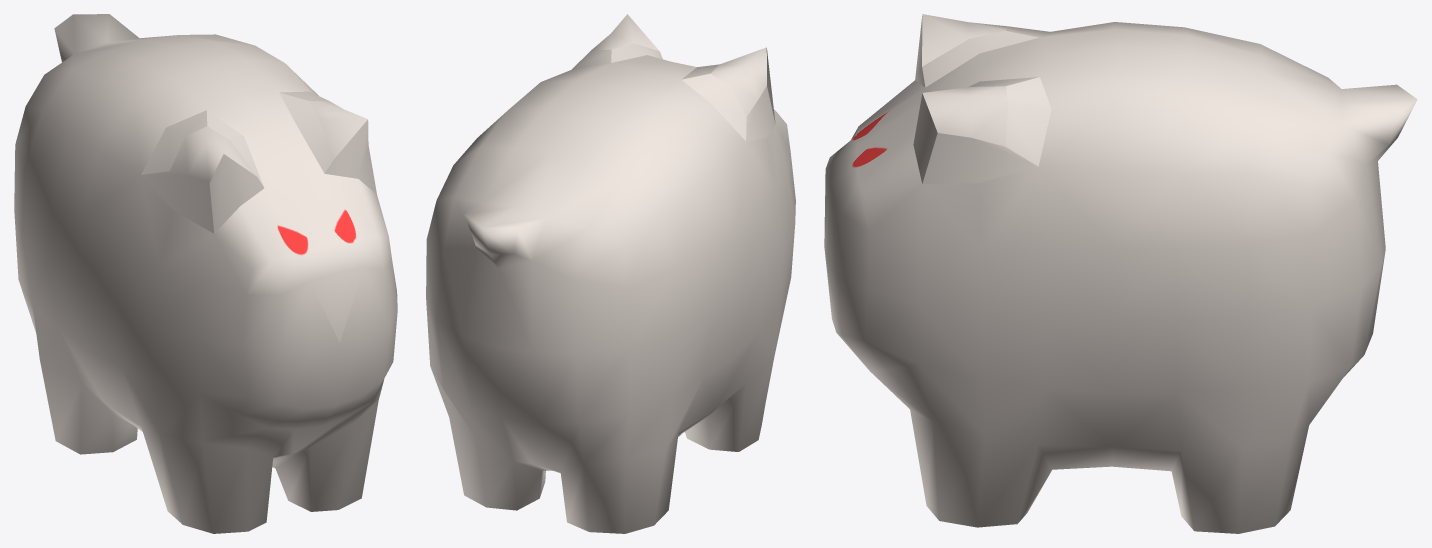
Rendered from inosisi.fbx.
3 renders of one model, left to right at view 1: azimuth 30°, elevation 25°; view 2: azimuth 150°, elevation 25°; view 3: azimuth 270°, elevation 25°, orthographic. The views are drawn at different scales.
Visible parts, largest first — view 1: pCube1; view 2: pCube1; view 3: pCube1.
Part boxes in pixels (bbox=[...]): pCube1: bbox=[14, 14, 397, 533]; pCube1: bbox=[426, 14, 795, 533]; pCube1: bbox=[824, 14, 1417, 533].
Size of the model in its own units: 1.1 by 1.57 by 1.94.
